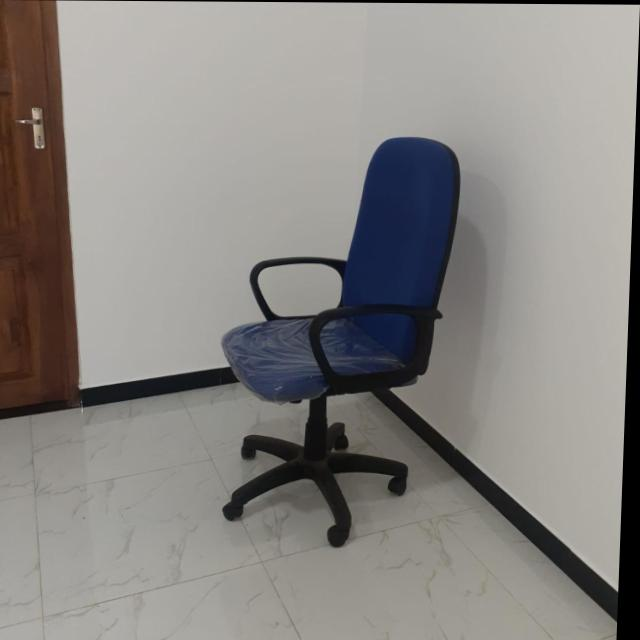Chair: (219, 135, 463, 550)
